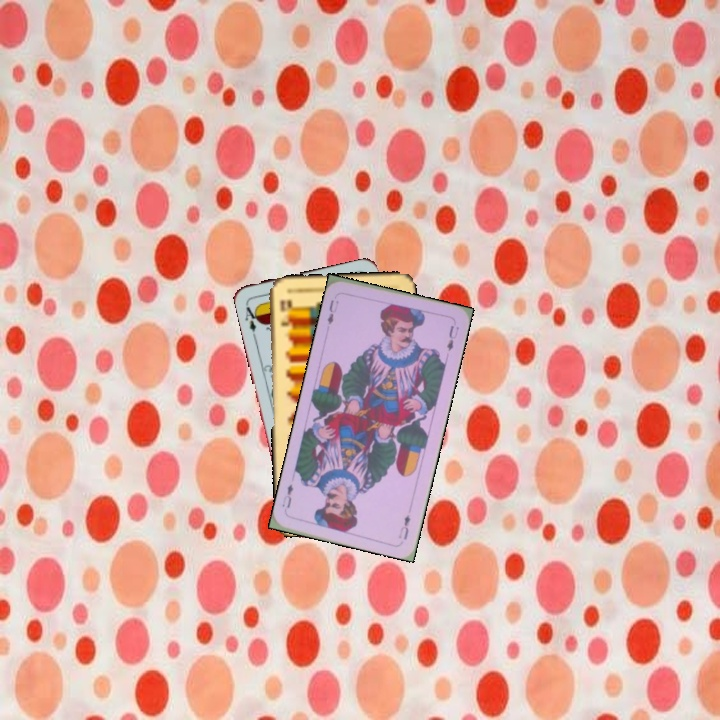E10: (276, 296, 291, 328)
EA: (241, 299, 262, 340)
EU: (394, 511, 413, 542), (323, 296, 341, 327)
